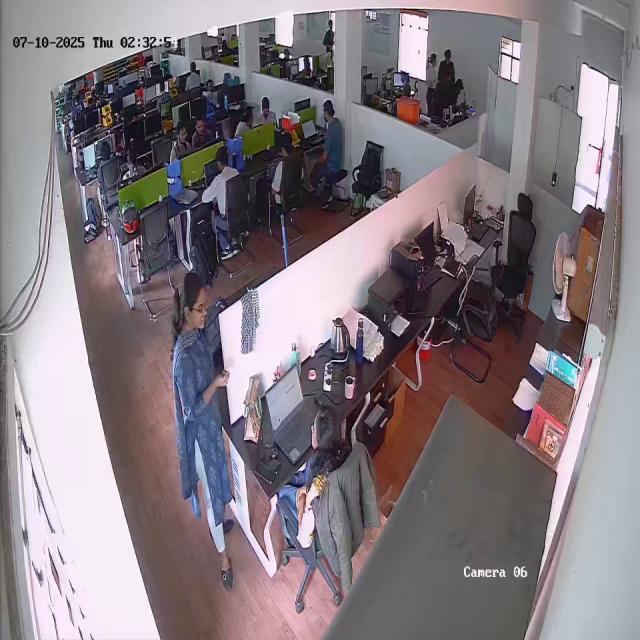person: (167, 268, 239, 593), (314, 98, 344, 176)
